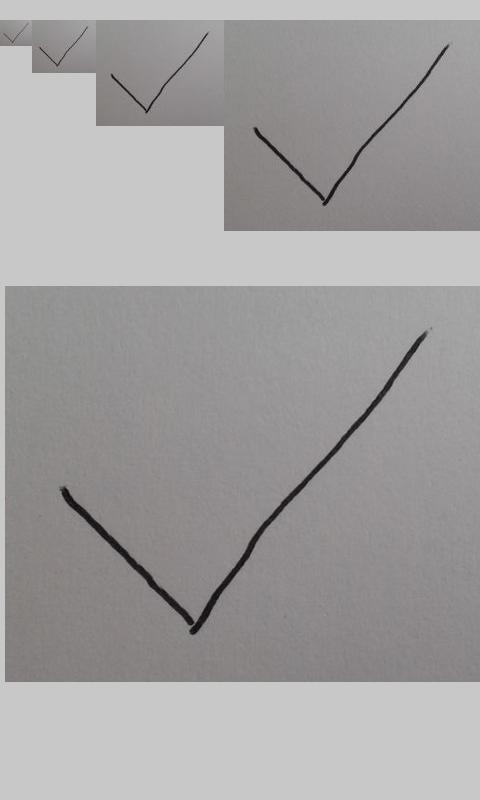check_box: (58, 330, 426, 635), (254, 45, 449, 206), (111, 32, 208, 113), (39, 26, 88, 67), (3, 23, 28, 43)
